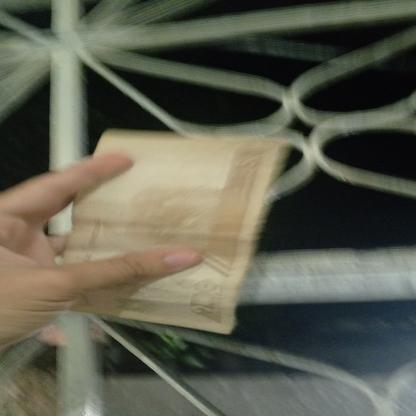five-back-vef: (61, 130, 284, 335)
